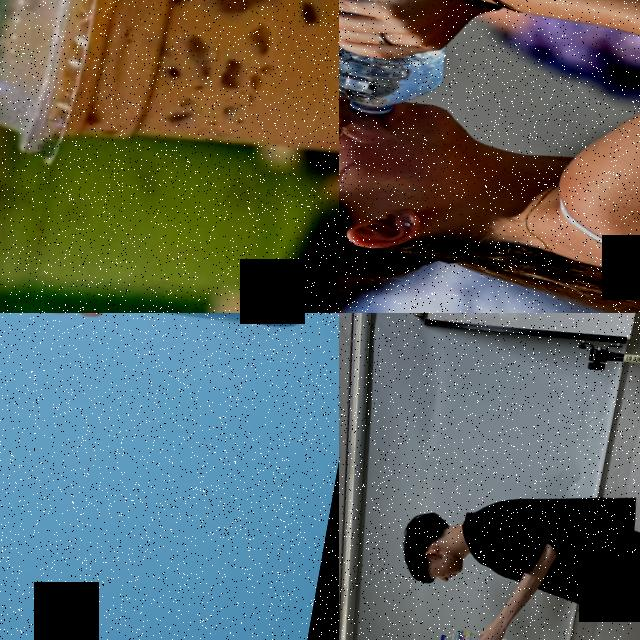bottle: (339, 0, 481, 126), (439, 625, 510, 640)
cup: (0, 0, 339, 244)
